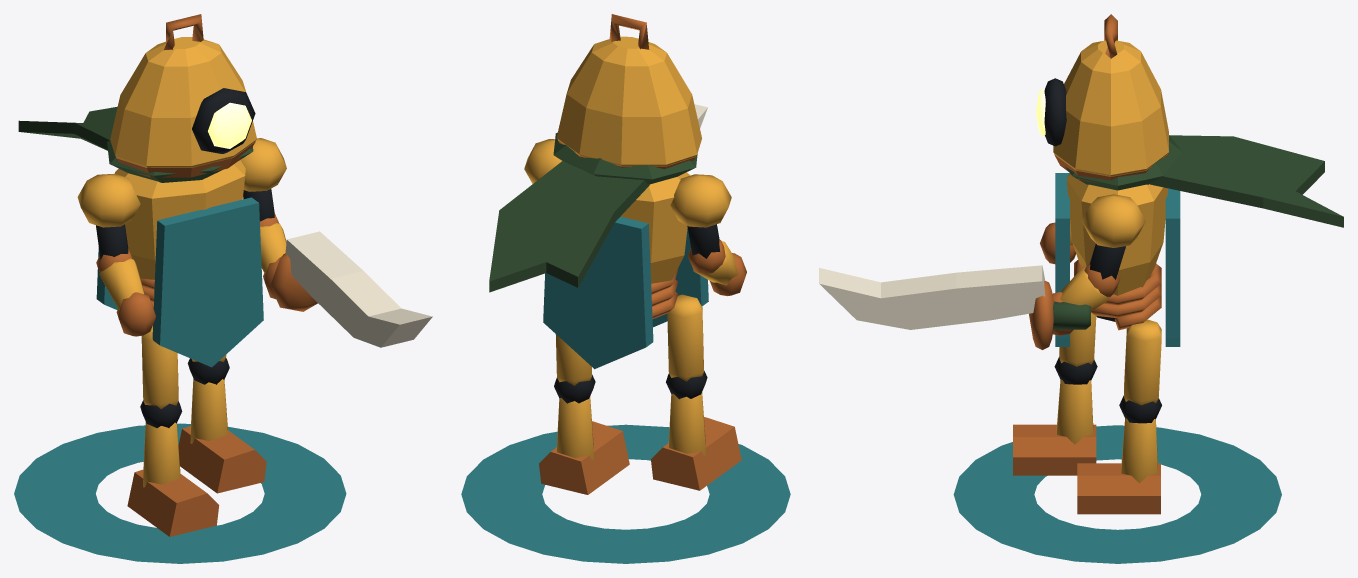
File: coilblade.glb
The picture shows the model from 3 angles, left to right: view 1: azimuth 30°, elevation 25°; view 2: azimuth 150°, elevation 25°; view 3: azimuth 270°, elevation 25°; orthographic projection.
Parts seen in each view (by area): view 1: ME_CM_R1_coilblade_river_ground_mark, ME_CM_R1_coilblade_broad_team_tabard_front, ME_CM_R1_coilblade_flared_kiln_bell, ME_CM_R1_coilblade_sunrise_crescent, ME_CM_R1_coilblade_copper_chest, ME_CM_R1_coilblade_left_splayed_sabaton, ME_CM_R1_coilblade_right_splayed_sabaton, ME_CM_R1_coilblade_left_shoulder, ME_CM_R1_coilblade_left_thigh, ME_CM_R1_coilblade_right_shin, ME_CM_R1_coilblade_left_shin, ME_CM_R1_coilblade_broad_trailing_scarf (+14 smaller); view 2: ME_CM_R1_coilblade_river_ground_mark, ME_CM_R1_coilblade_flared_kiln_bell, ME_CM_R1_coilblade_broad_trailing_scarf, ME_CM_R1_coilblade_broad_team_tabard_back, ME_CM_R1_coilblade_copper_chest, ME_CM_R1_coilblade_left_splayed_sabaton, ME_CM_R1_coilblade_right_splayed_sabaton, ME_CM_R1_coilblade_left_thigh, ME_CM_R1_coilblade_left_shoulder, ME_CM_R1_coilblade_moss_scarf_collar, ME_CM_R1_coilblade_left_shin, ME_CM_R1_coilblade_right_shin (+11 smaller); view 3: ME_CM_R1_coilblade_river_ground_mark, ME_CM_R1_coilblade_flared_kiln_bell, ME_CM_R1_coilblade_sunrise_crescent, ME_CM_R1_coilblade_broad_trailing_scarf, ME_CM_R1_coilblade_copper_chest, ME_CM_R1_coilblade_right_splayed_sabaton, ME_CM_R1_coilblade_left_splayed_sabaton, ME_CM_R1_coilblade_right_thigh, ME_CM_R1_coilblade_right_shoulder, ME_CM_R1_coilblade_broad_team_tabard_back, ME_CM_R1_coilblade_three_turn_spring, ME_CM_R1_coilblade_left_shin (+11 smaller).
Boxes of the visible parts, x1=… form: ME_CM_R1_coilblade_river_ground_mark: x1=14, y1=423, x2=346, y2=563; ME_CM_R1_coilblade_broad_team_tabard_front: x1=152, y1=197, x2=263, y2=367; ME_CM_R1_coilblade_flared_kiln_bell: x1=110, y1=37, x2=256, y2=167; ME_CM_R1_coilblade_sunrise_crescent: x1=285, y1=231, x2=432, y2=347; ME_CM_R1_coilblade_copper_chest: x1=115, y1=160, x2=245, y2=279; ME_CM_R1_coilblade_left_splayed_sabaton: x1=127, y1=469, x2=219, y2=536; ME_CM_R1_coilblade_right_splayed_sabaton: x1=178, y1=426, x2=266, y2=493; ME_CM_R1_coilblade_left_shoulder: x1=77, y1=173, x2=140, y2=227; ME_CM_R1_coilblade_left_thigh: x1=141, y1=325, x2=178, y2=409; ME_CM_R1_coilblade_right_shin: x1=190, y1=378, x2=227, y2=443; ME_CM_R1_coilblade_left_shin: x1=143, y1=422, x2=180, y2=487; ME_CM_R1_coilblade_broad_trailing_scarf: x1=18, y1=106, x2=117, y2=150; ME_CM_R1_coilblade_river_ground_mark: x1=461, y1=424, x2=790, y2=563; ME_CM_R1_coilblade_flared_kiln_bell: x1=556, y1=36, x2=701, y2=166; ME_CM_R1_coilblade_broad_trailing_scarf: x1=489, y1=161, x2=649, y2=292; ME_CM_R1_coilblade_broad_team_tabard_back: x1=543, y1=216, x2=653, y2=369; ME_CM_R1_coilblade_copper_chest: x1=621, y1=172, x2=690, y2=283; ME_CM_R1_coilblade_left_splayed_sabaton: x1=651, y1=417, x2=741, y2=490; ME_CM_R1_coilblade_right_splayed_sabaton: x1=539, y1=421, x2=629, y2=494; ME_CM_R1_coilblade_left_thigh: x1=667, y1=294, x2=703, y2=381; ME_CM_R1_coilblade_left_shoulder: x1=670, y1=174, x2=731, y2=227; ME_CM_R1_coilblade_moss_scarf_collar: x1=553, y1=132, x2=697, y2=184; ME_CM_R1_coilblade_left_shin: x1=668, y1=392, x2=705, y2=456; ME_CM_R1_coilblade_right_shin: x1=557, y1=396, x2=593, y2=460; ME_CM_R1_coilblade_river_ground_mark: x1=953, y1=425, x2=1281, y2=563; ME_CM_R1_coilblade_flared_kiln_bell: x1=1053, y1=40, x2=1168, y2=176; ME_CM_R1_coilblade_sunrise_crescent: x1=819, y1=265, x2=1045, y2=329; ME_CM_R1_coilblade_broad_trailing_scarf: x1=1150, y1=135, x2=1343, y2=227; ME_CM_R1_coilblade_copper_chest: x1=1066, y1=173, x2=1168, y2=295; ME_CM_R1_coilblade_right_splayed_sabaton: x1=1077, y1=463, x2=1160, y2=514; ME_CM_R1_coilblade_left_splayed_sabaton: x1=1013, y1=424, x2=1096, y2=475; ME_CM_R1_coilblade_right_thigh: x1=1124, y1=319, x2=1161, y2=405; ME_CM_R1_coilblade_right_shoulder: x1=1081, y1=194, x2=1145, y2=247; ME_CM_R1_coilblade_broad_team_tabard_back: x1=1165, y1=188, x2=1180, y2=346; ME_CM_R1_coilblade_three_turn_spring: x1=1074, y1=260, x2=1161, y2=330; ME_CM_R1_coilblade_left_shin: x1=1056, y1=379, x2=1093, y2=444.
Bounding box in the file's own units: 1.22 × 1.94 × 1.95.
